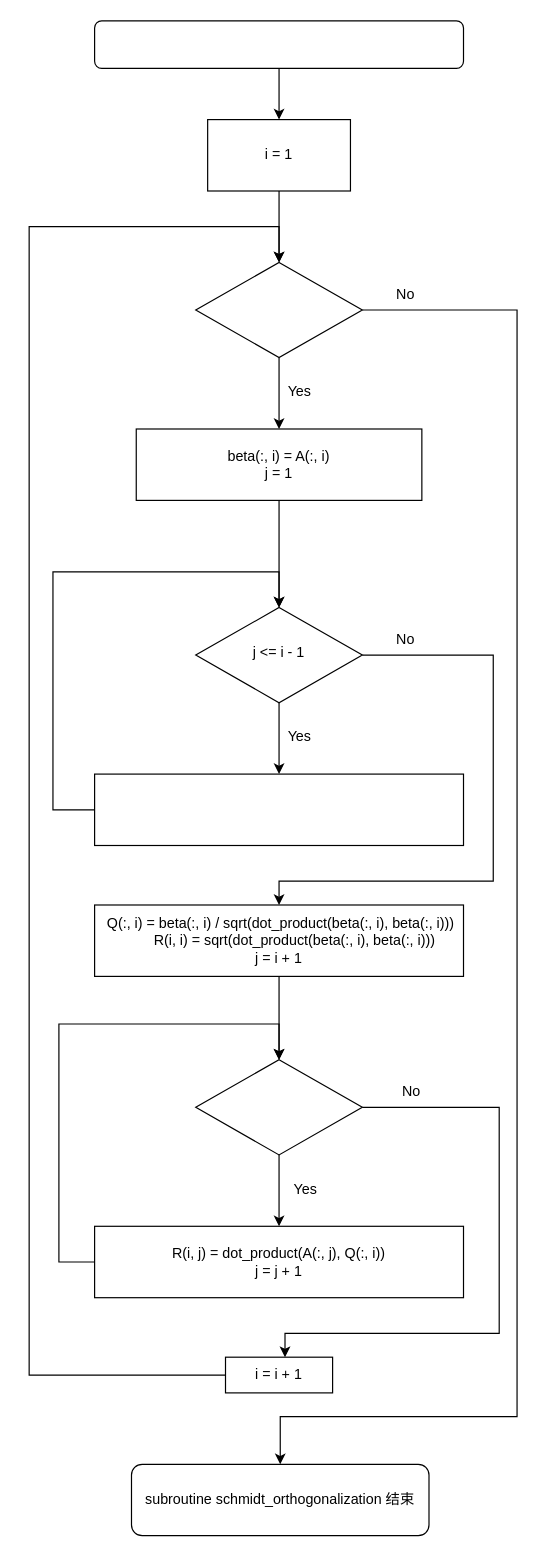
This 547x1557 diagram has some shape labels left out. Here are the shapes that lost their labels. From the top down, the centre of each, then its label:
At (278,44): "subroutine schmidt_orthogonalization(A, Q, R, n) 开始".
At (278,309): "i <= n".
At (278,809): "beta(:, i) = beta(:, i) - dot_product(A(:, i), Q(:, j)) * Q(:, j) j = j + 1".
At (278,1107): "j <= n".
